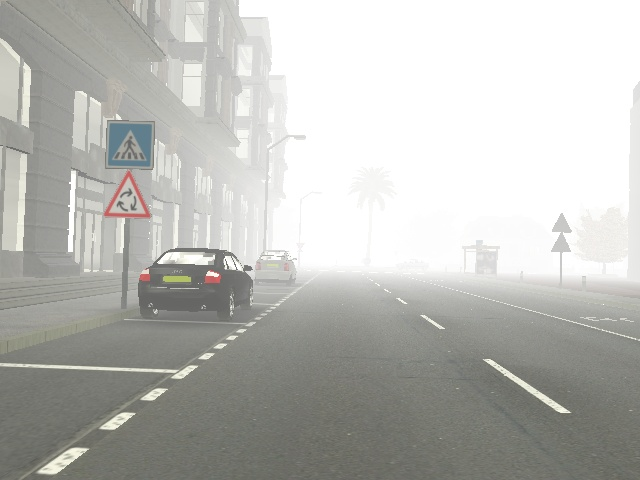Crossroad: (97, 172, 156, 225)
Pedestrian crossing: (98, 114, 162, 175)
